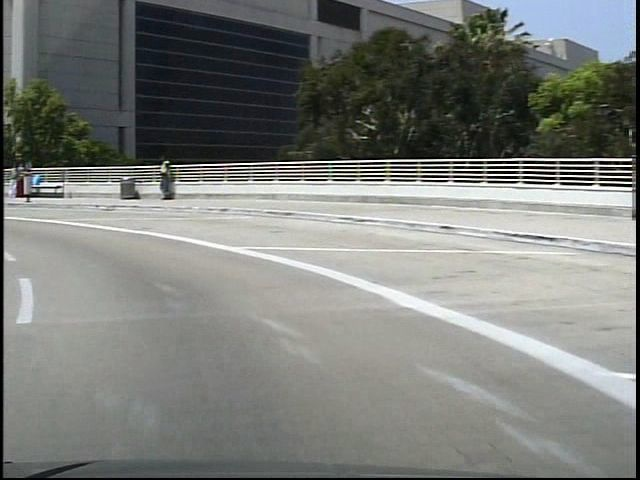person: (151, 152, 171, 204)
